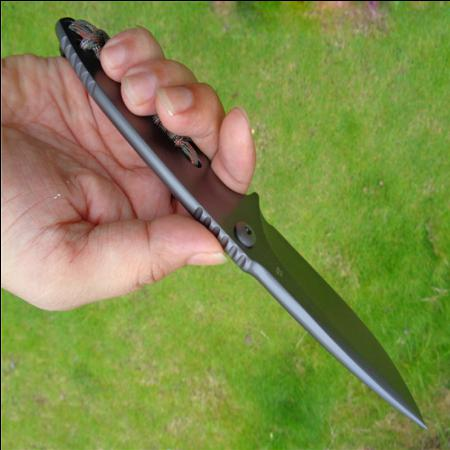long weapon: (46, 10, 434, 434)
